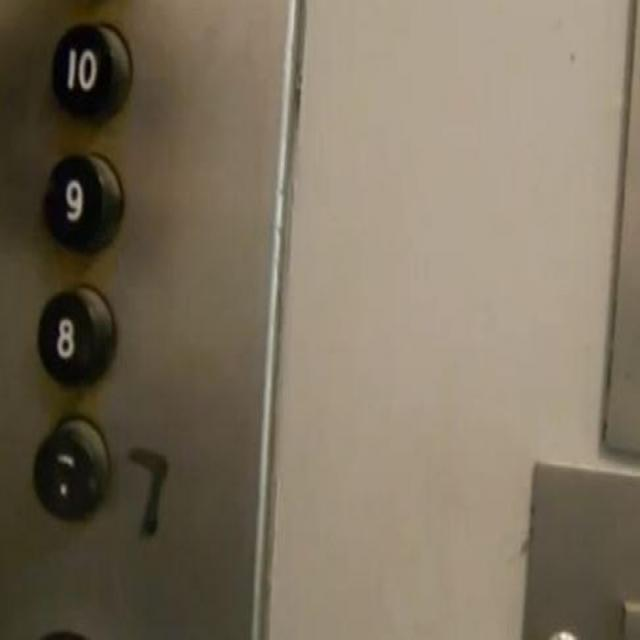10: (48, 19, 133, 124)
8: (36, 280, 116, 389)
9: (39, 145, 127, 256)
blur: (31, 415, 112, 521)
